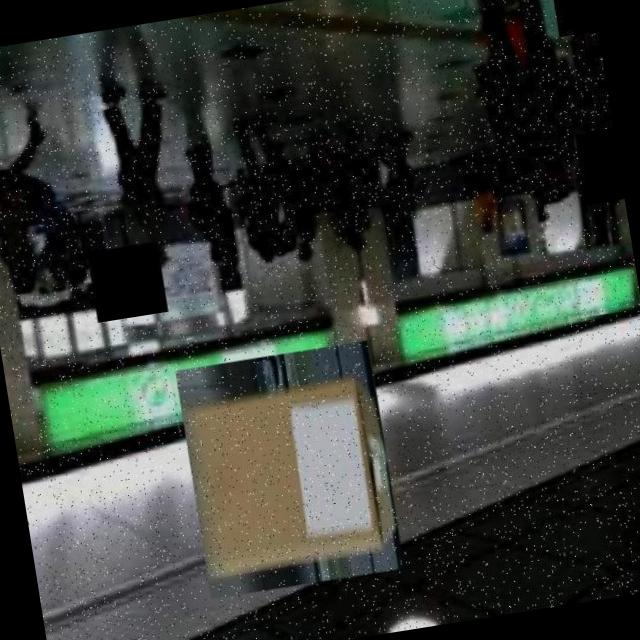box: (170, 335, 408, 602)
